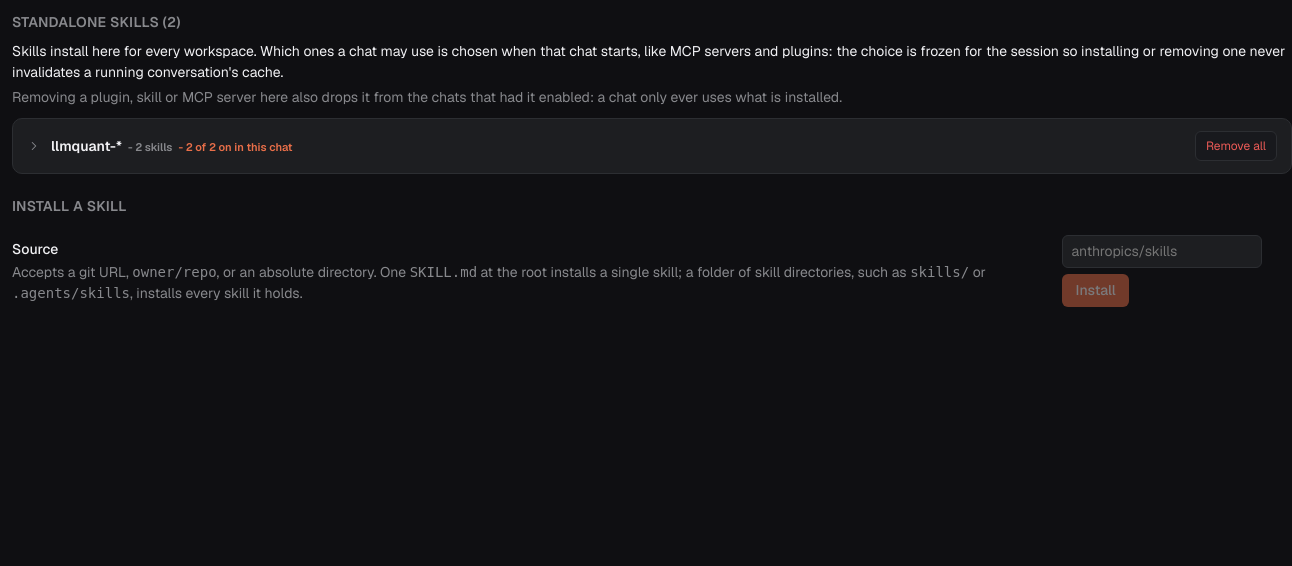
PageSkills groups › names an inferred group by its shared prefix and says so
The width and height of the screenshot is (1292, 566).
Expected: the text "llmquant-*" is shown, [51,136,122,154]
Step 1. Click the button "llmquant-*" → (86, 146), box [27,131,1185,161]
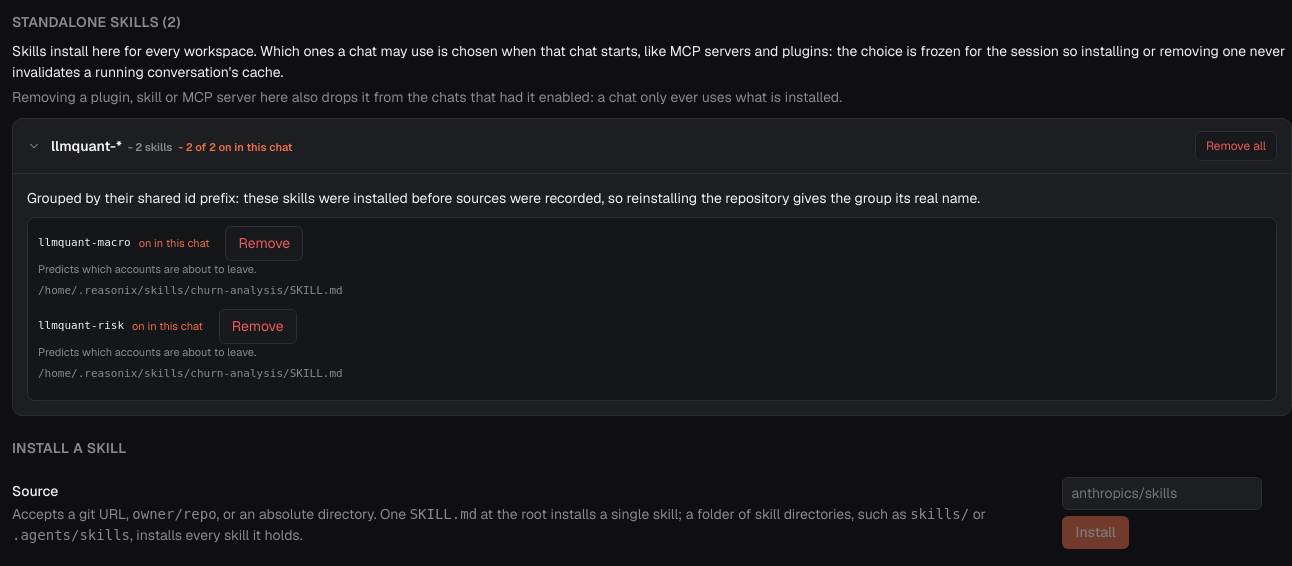
Expected: the text "Grouped by their shared id prefix" is shown, [27,189,980,207]
